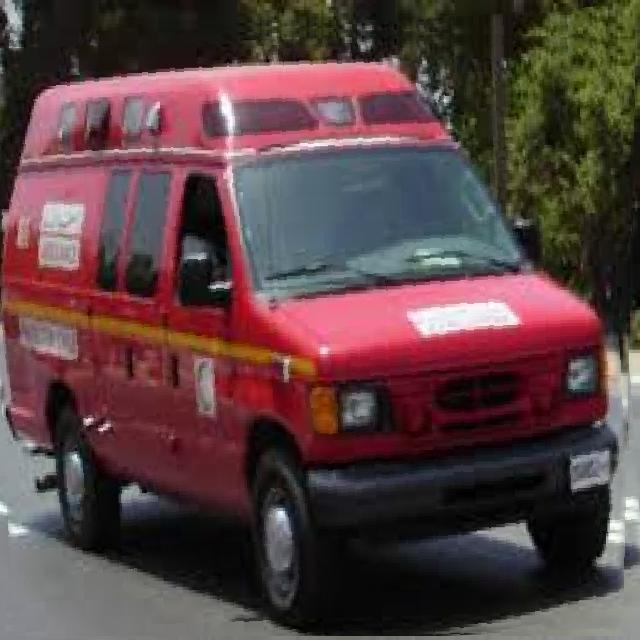ambulance: (0, 16, 636, 636)
